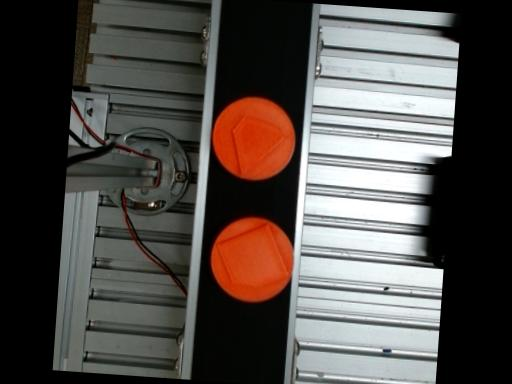Not_Square: (215, 223, 289, 290), (231, 115, 283, 176)
Orange_Waper: (211, 96, 294, 181), (210, 217, 292, 302)
